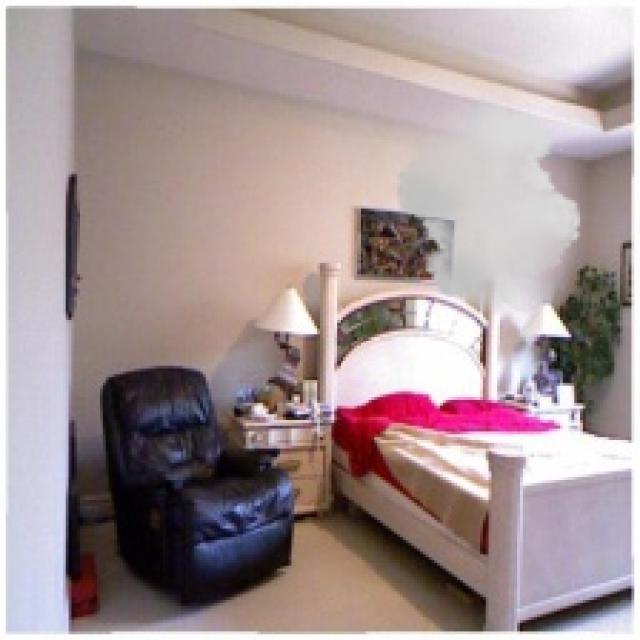smoke: (388, 94, 588, 317)
